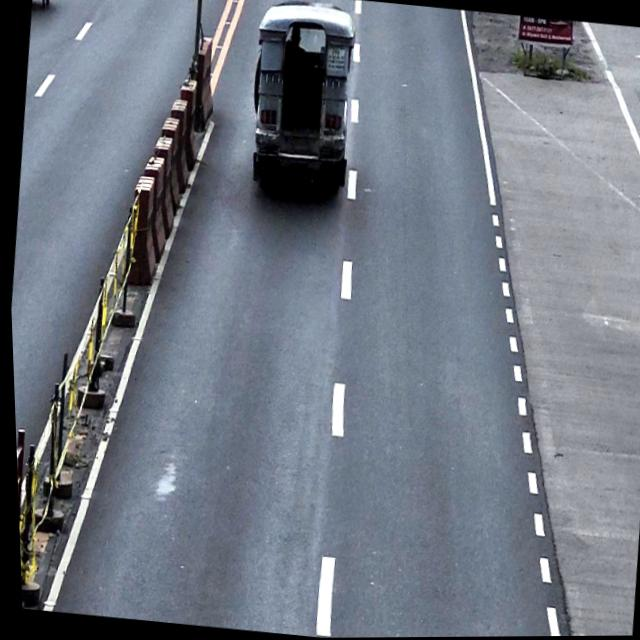Jeep: (238, 0, 363, 204)
